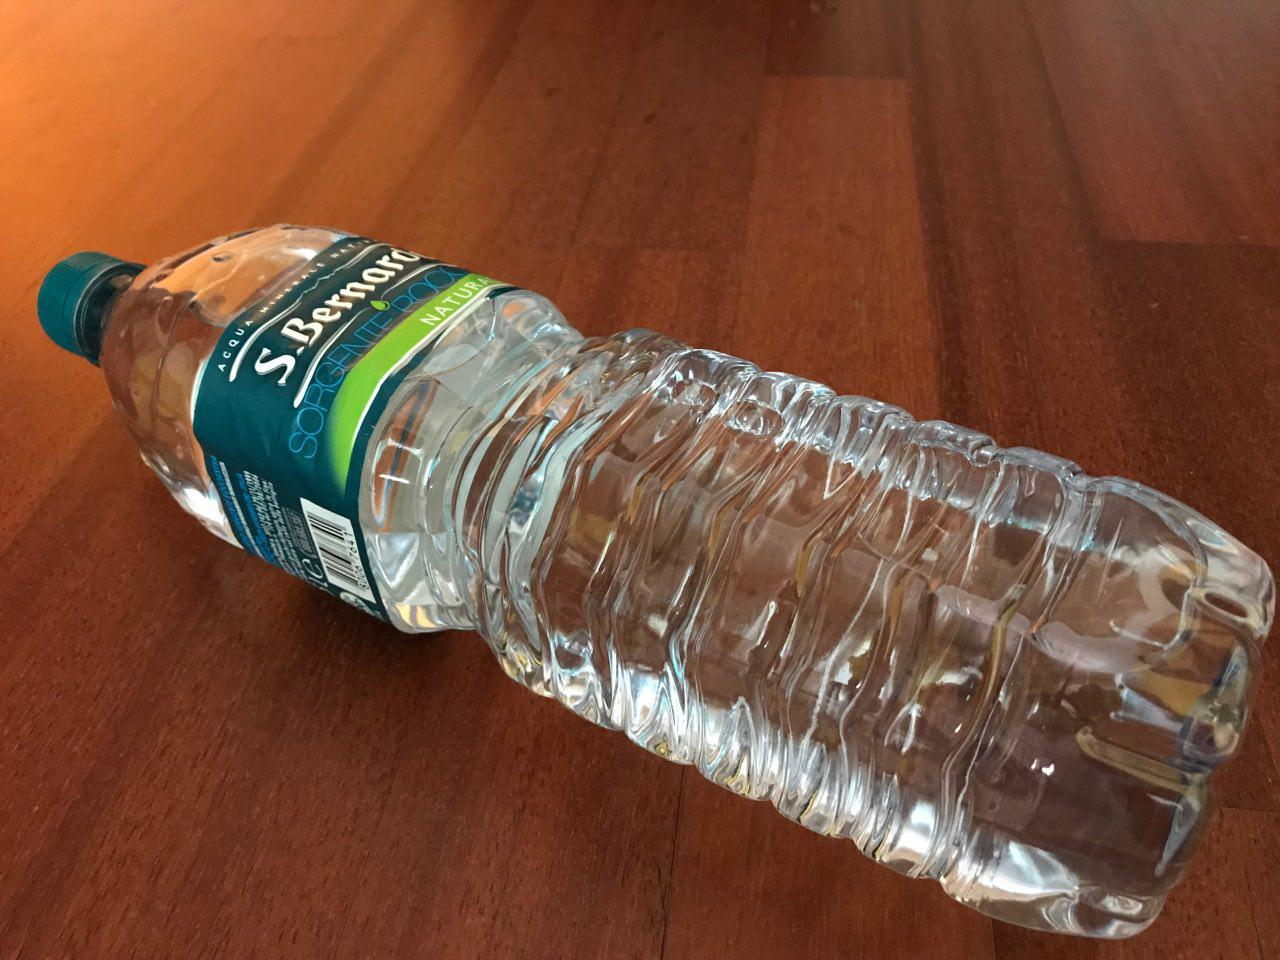san_bernardo: (34, 221, 1280, 945)
